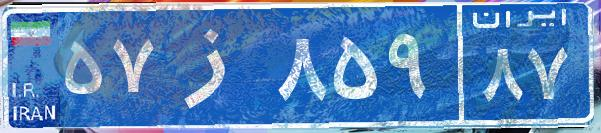5: (330, 28, 385, 110), (57, 26, 110, 107)
7: (110, 28, 158, 105), (525, 38, 570, 115)
8: (273, 28, 330, 110), (475, 38, 525, 113)
9: (385, 28, 445, 110)
ز: (158, 15, 273, 115)
